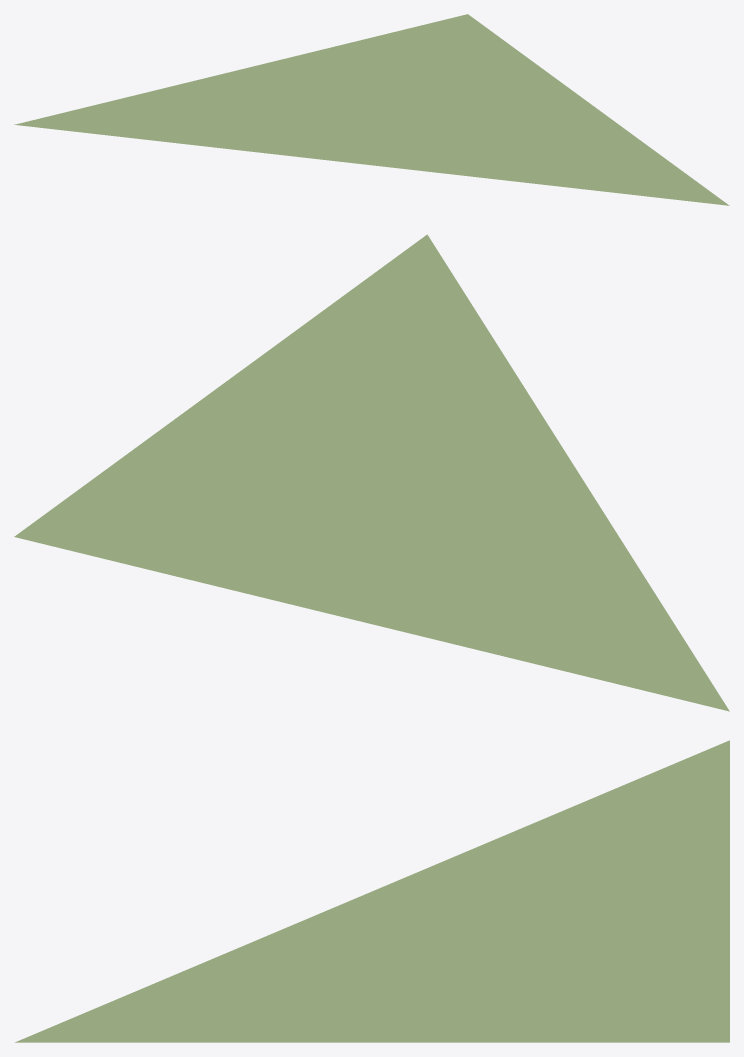
File: ER_Terrain_1x1_GrassTopDiagonal_Halfsize.fbx
The picture shows the model from 3 angles, top to bottom: view 1: azimuth 30°, elevation 25°; view 2: azimuth 150°, elevation 25°; view 3: azimuth 270°, elevation 25°; orthographic projection. The views are drawn at different scales.
Parts seen in each view (by area): view 1: ER_Terrain_1x1_GrassTopDiagonal_Halfsize; view 2: ER_Terrain_1x1_GrassTopDiagonal_Halfsize; view 3: ER_Terrain_1x1_GrassTopDiagonal_Halfsize.
Part boxes in pixels (x1,y1,x2,y2): ER_Terrain_1x1_GrassTopDiagonal_Halfsize: [14, 14, 729, 205]; ER_Terrain_1x1_GrassTopDiagonal_Halfsize: [14, 234, 729, 711]; ER_Terrain_1x1_GrassTopDiagonal_Halfsize: [15, 740, 729, 1042].
Size of the model in its own units: 1 by 0 by 1.
